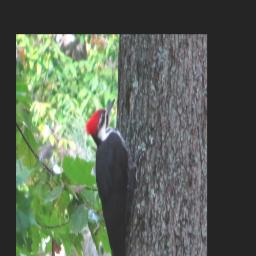Woodpecker: (84, 98, 146, 256)
